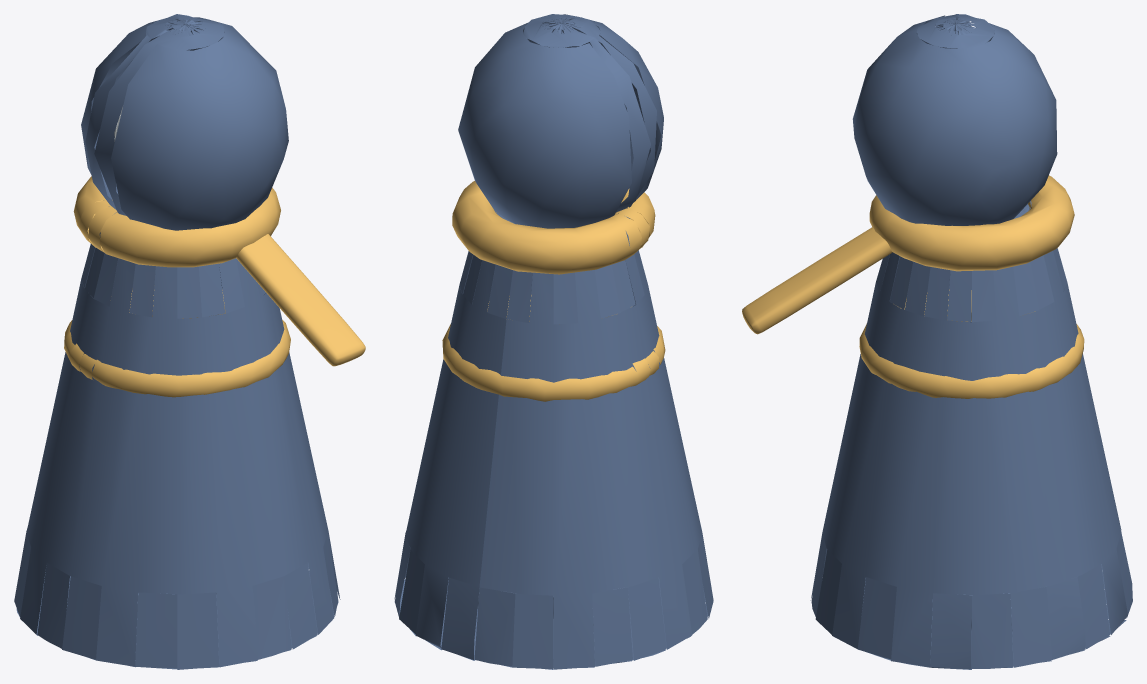
Rendered from spirit_hero.glb.
3 views of the same model, side by side, from view 1: azimuth 30°, elevation 25°; view 2: azimuth 150°, elevation 25°; view 3: azimuth 270°, elevation 25° (orthographic).
Parts seen in each view (by area): view 1: cloak, hood, scarf_ring, scarf_tail, belt; view 2: cloak, hood, scarf_ring, belt; view 3: cloak, hood, scarf_ring, scarf_tail, belt.
Boxes of the visible parts, left/top/right/bottom form: cloak: left=14, top=206, right=340, bottom=669; hood: left=81, top=14, right=288, bottom=230; scarf_ring: left=73, top=176, right=280, bottom=267; scarf_tail: left=236, top=234, right=365, bottom=366; belt: left=64, top=290, right=290, bottom=397; cloak: left=394, top=210, right=713, bottom=669; hood: left=458, top=14, right=663, bottom=228; scarf_ring: left=452, top=181, right=655, bottom=274; belt: left=442, top=295, right=665, bottom=401; cloak: left=810, top=201, right=1132, bottom=669; hood: left=852, top=14, right=1057, bottom=225; scarf_ring: left=869, top=175, right=1074, bottom=271; scarf_tail: left=742, top=227, right=892, bottom=334; belt: left=859, top=289, right=1084, bottom=398.
Bounding box in the file's own units: 0.8052 × 1.61 × 0.9767.
